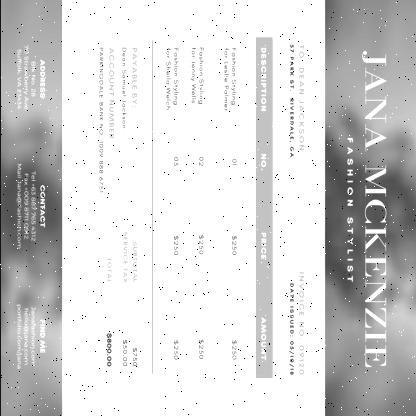Table: (150, 37, 272, 378)
